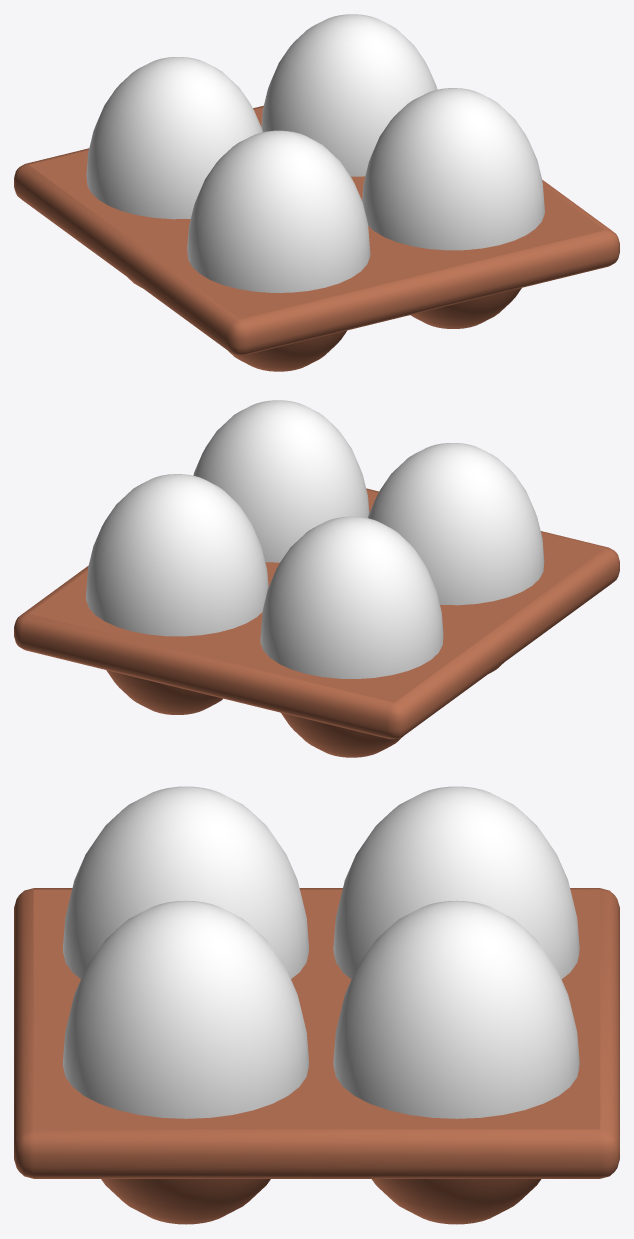
The model's file is Eggs.fbx.
3 renders of one model, top to bottom at view 1: azimuth 30°, elevation 25°; view 2: azimuth 150°, elevation 25°; view 3: azimuth 270°, elevation 25°, orthographic. The views are drawn at different scales.
Visible parts, largest first — view 1: Eggs.003; view 2: Eggs.003; view 3: Eggs.003.
Boxes of the visible parts, x1,y1,x2,y2 form: Eggs.003: (14,14,619,371); Eggs.003: (14,400,619,757); Eggs.003: (14,786,619,1224).
Size of the model in its own units: 200 by 112 by 200.
